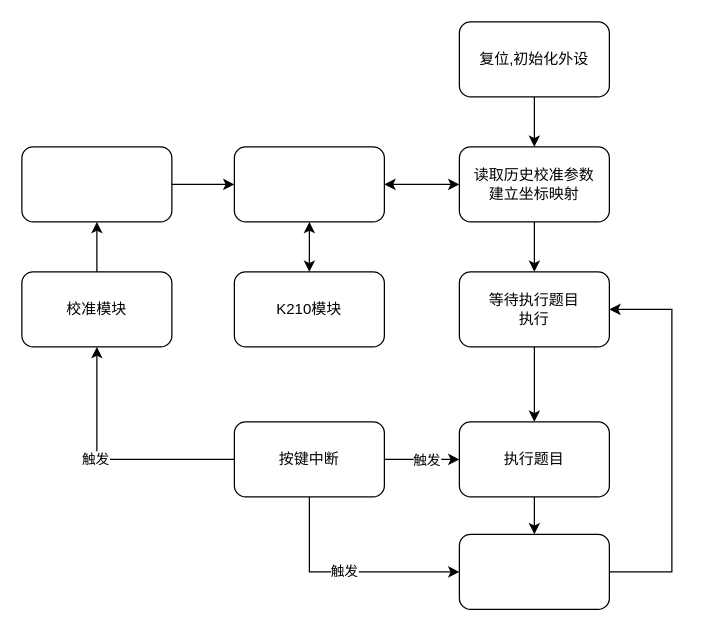
The diagram is 704 pixels wide and 631 high, and some of its shapes have lost their labels. Here are the shapes that lost their labels. From the top down, the centre of each, then its label:
At (96,184): "更新校准参数 更新坐标映射".
At (308,184): "串口接收发送".
At (533,571): "急停".
